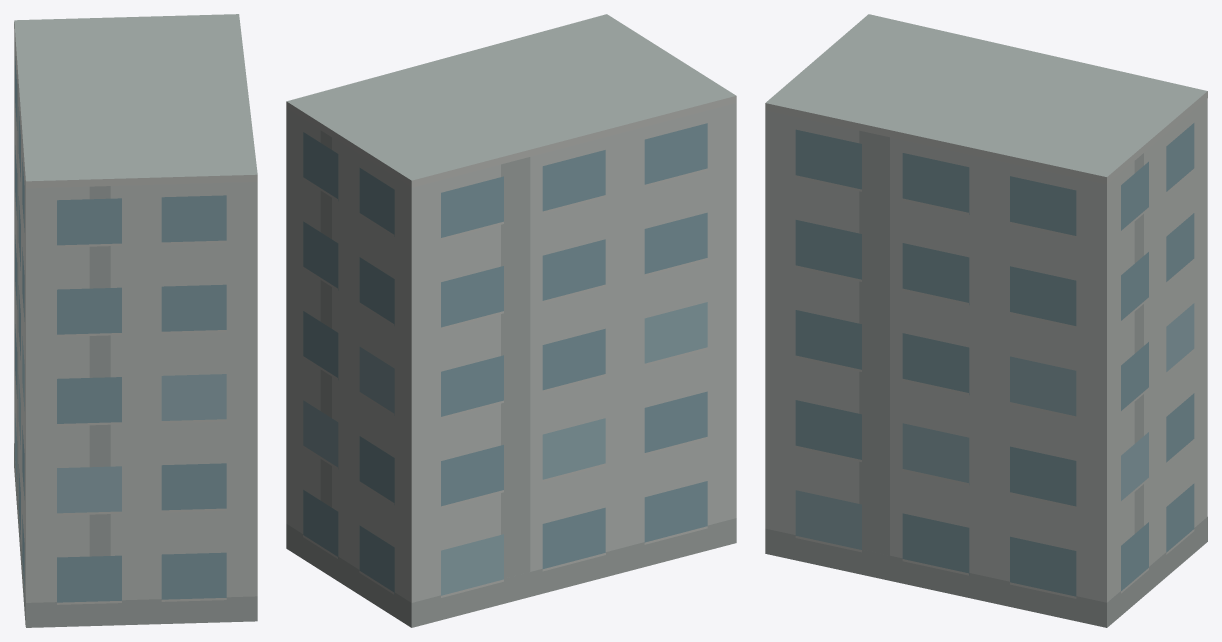
The model's file is survey-upis-32727858.glb.
3 views of the same model, side by side, from view 1: azimuth 30°, elevation 25°; view 2: azimuth 150°, elevation 25°; view 3: azimuth 270°, elevation 25° (orthographic).
Visible parts, largest first — view 1: survey-upis-32727858.tmp; view 2: survey-upis-32727858.tmp; view 3: survey-upis-32727858.tmp.
Part boxes in pixels (x1=…): survey-upis-32727858.tmp: x1=14, y1=14, x2=257, y2=627; survey-upis-32727858.tmp: x1=286, y1=14, x2=736, y2=627; survey-upis-32727858.tmp: x1=765, y1=14, x2=1207, y2=627.
Bounding box in the file's own units: 11.85 × 15.25 × 13.58.
